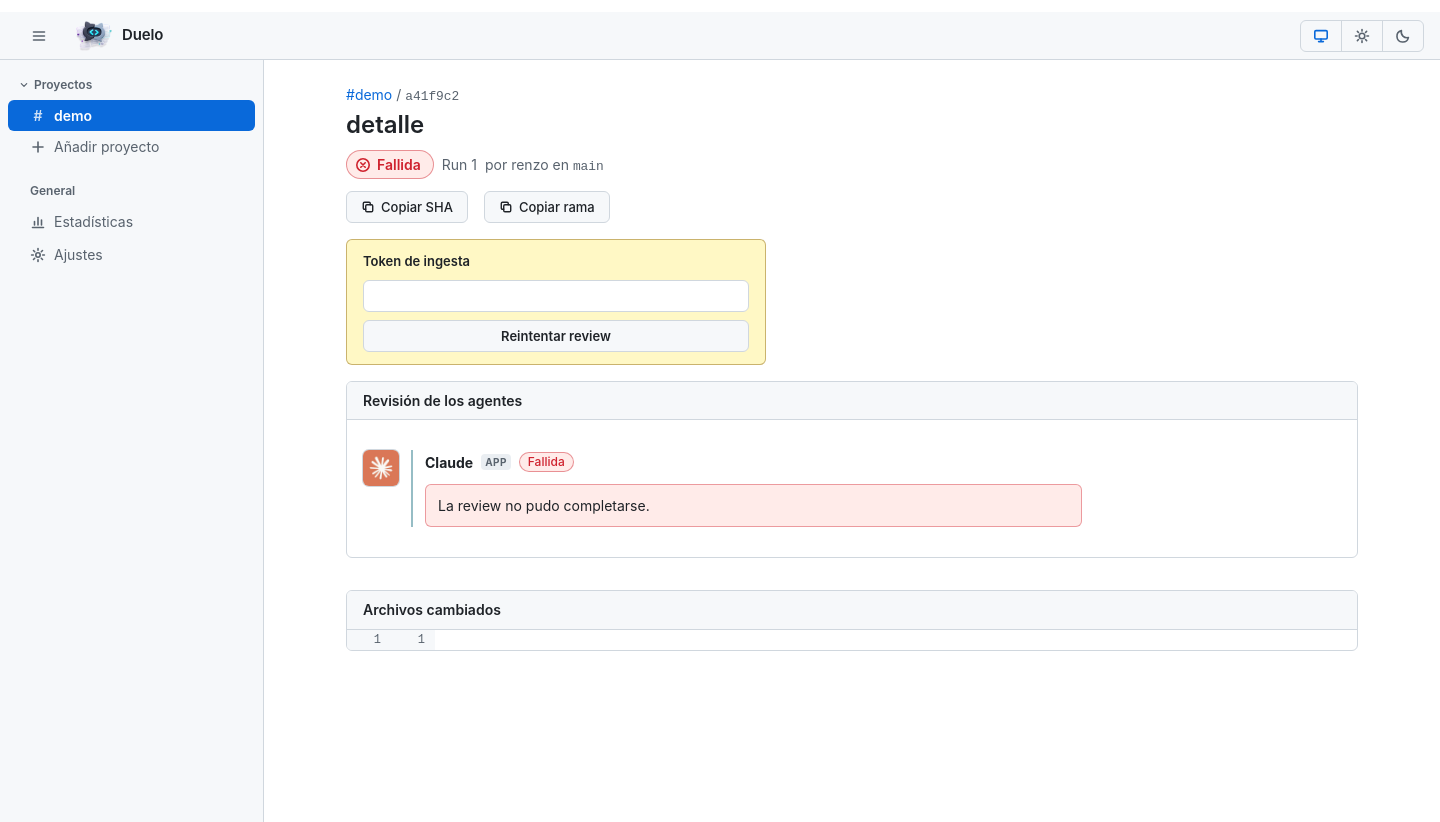
Test case: retry review › sends the trimmed token, announces the new run and reloads the detail
This screenshot has width=1440, height=822.
Expected: the heading "detalle" is shown, x1=346 y1=110 x2=424 y2=139
Step 1. Type " secreto " into the password field labelled "Token de ingesta" → (556, 296), box x1=363 y1=280 x2=749 y2=312
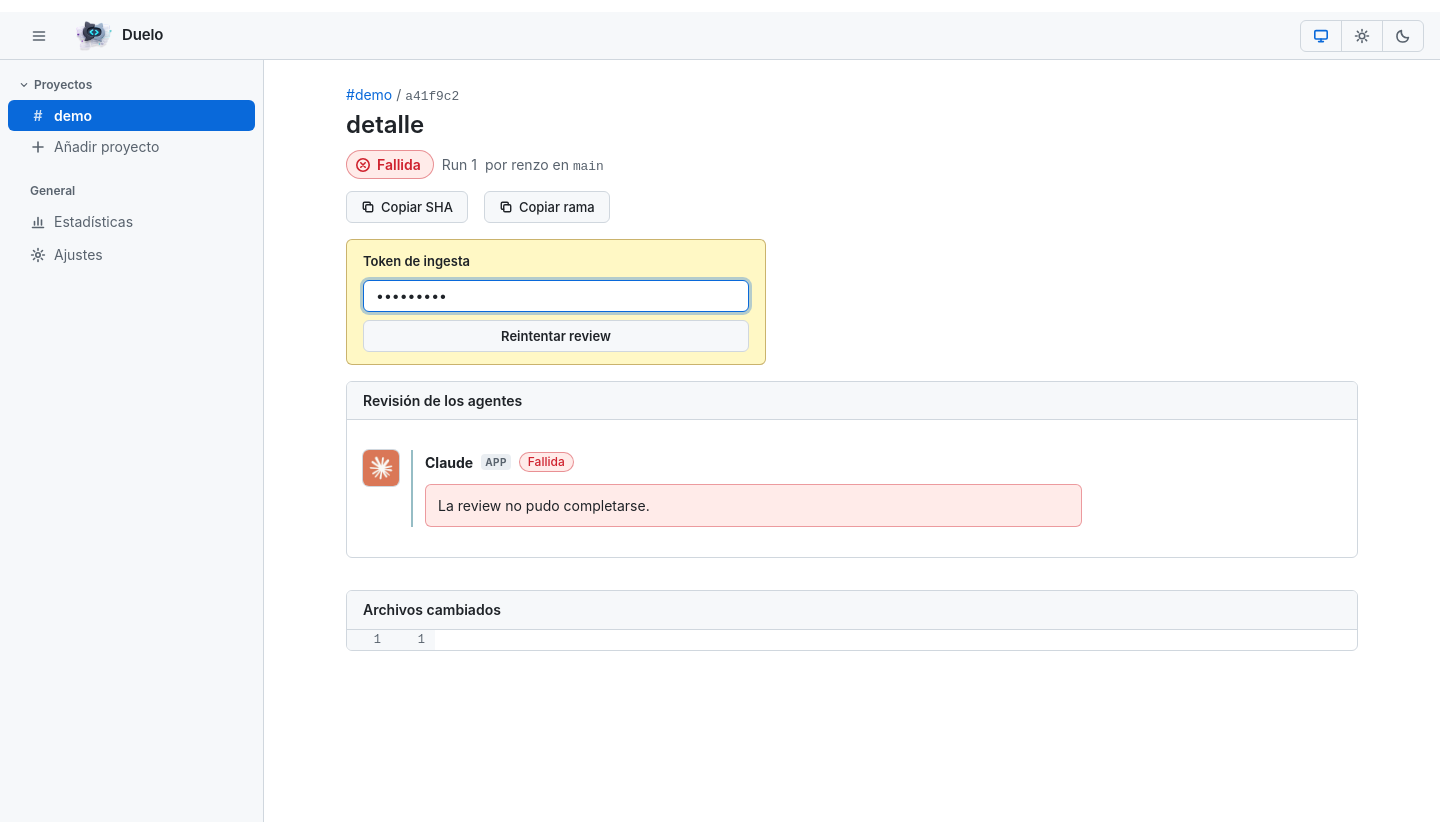
Step 2. Click the button "Reintentar review" → (556, 336), box x1=363 y1=320 x2=749 y2=352
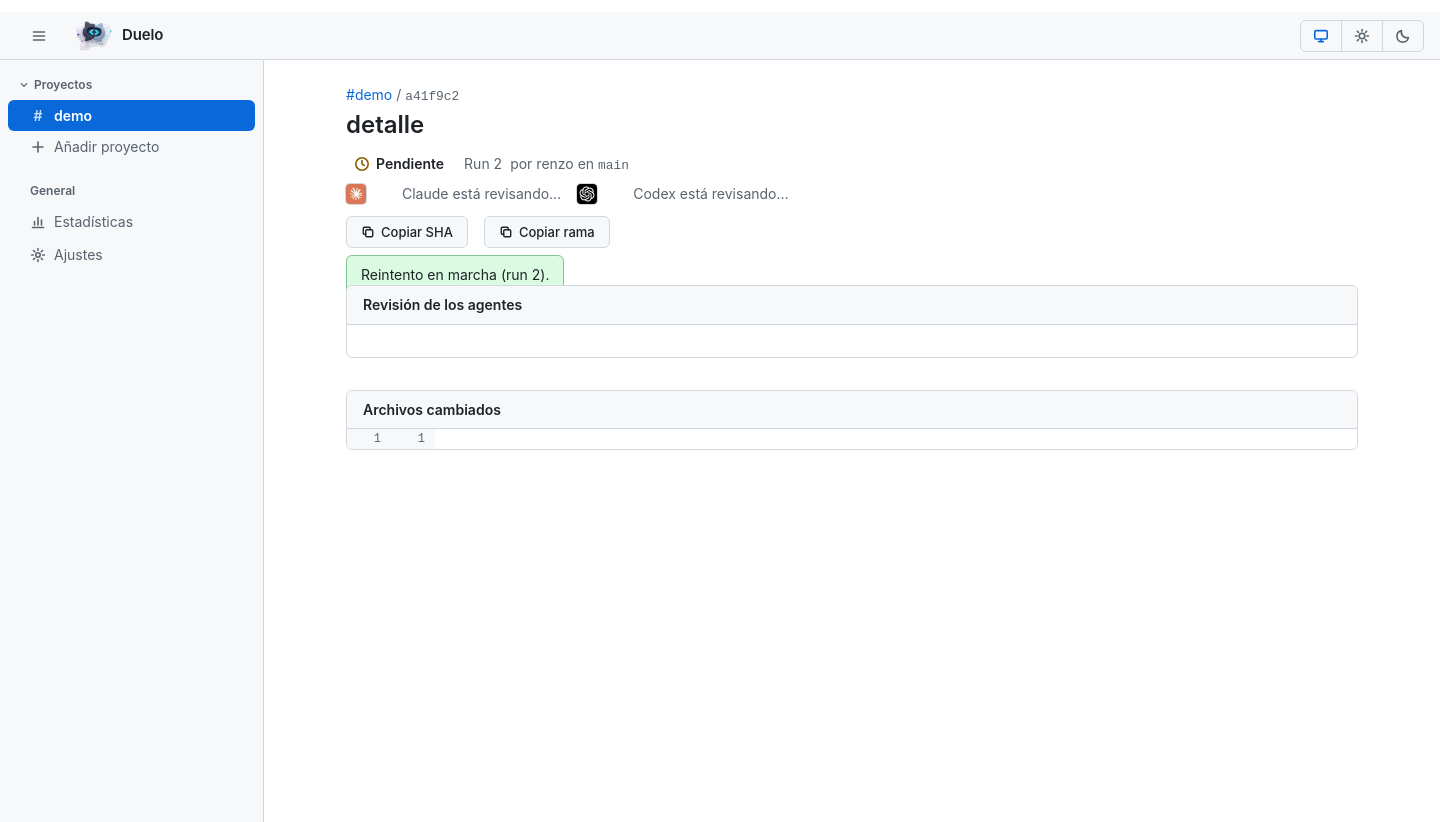
Now the text "Reintento en marcha (run 2)." is shown, box x1=346 y1=255 x2=564 y2=294
Now the text "Pendiente" is shown, box x1=354 y1=155 x2=444 y2=172
Now the button "Reintentar review" is gone
